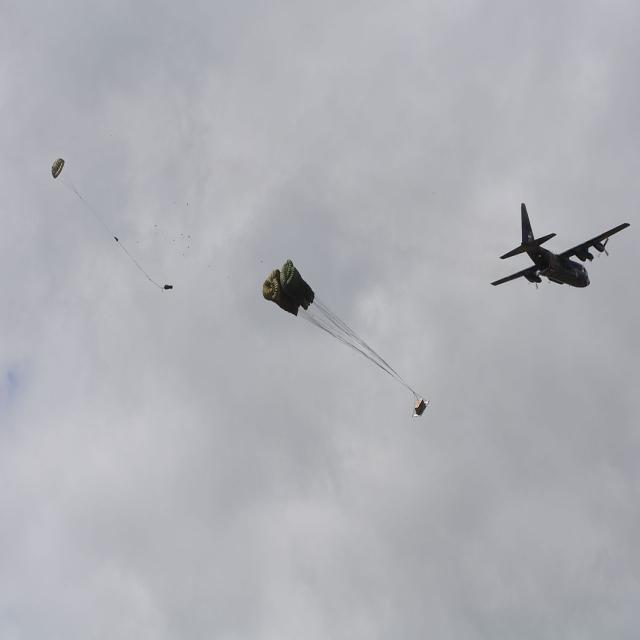MIL_Plane: (490, 203, 630, 289)
